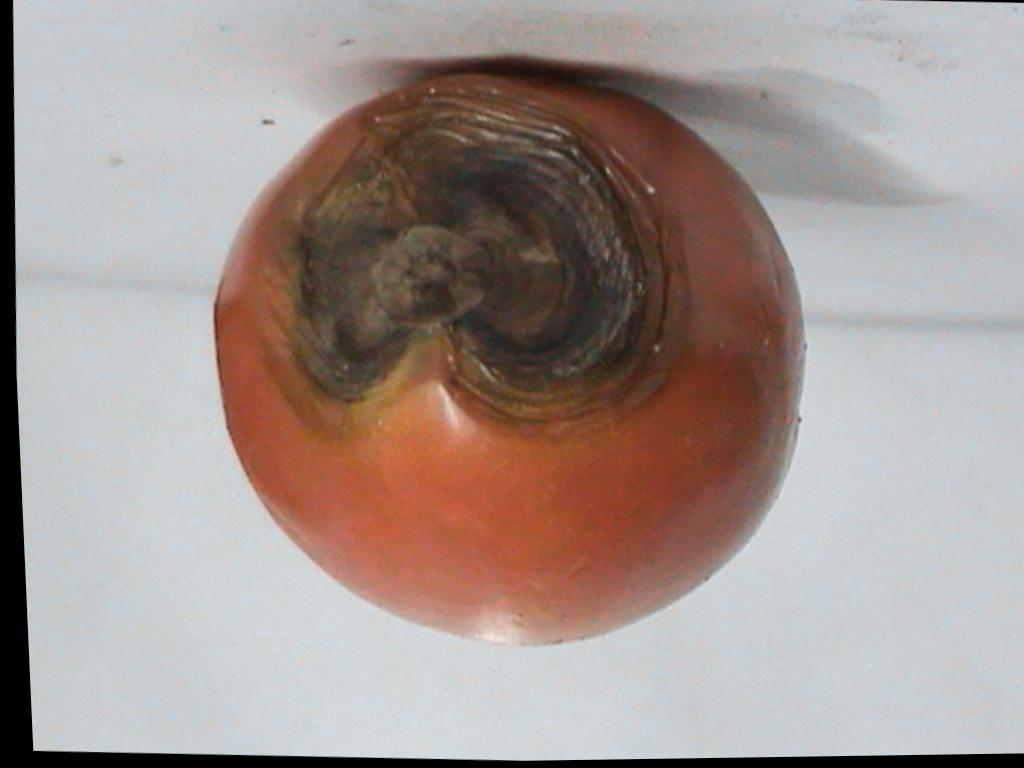rot_mold_decay: (291, 88, 666, 421)
tomato: (218, 76, 802, 643)
